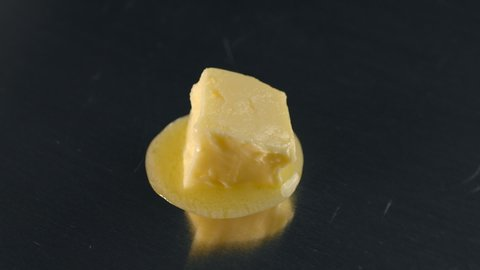Butter: (188, 67, 292, 189)
